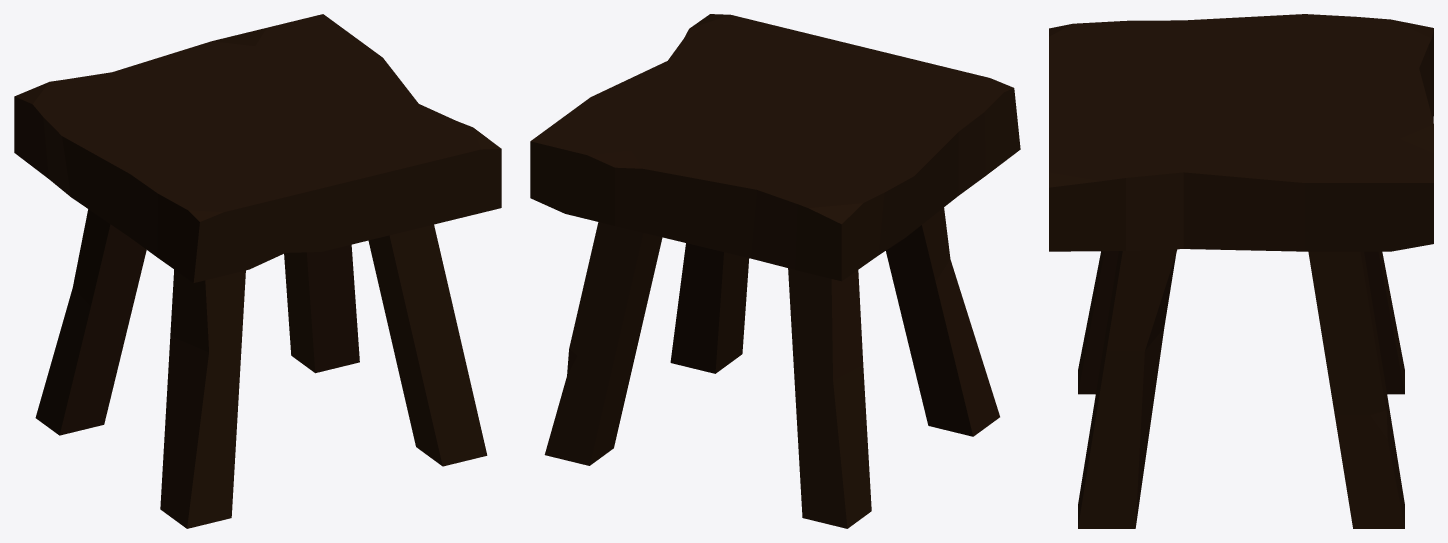
The model's file is wooden stool .fbx.
3 views of the same model, side by side, from view 1: azimuth 30°, elevation 25°; view 2: azimuth 150°, elevation 25°; view 3: azimuth 270°, elevation 25° (orthographic). The views are drawn at different scales.
Visible parts, largest first — view 1: Wooden_Stool; view 2: Wooden_Stool; view 3: Wooden_Stool.
Part boxes in pixels (box(x1,y1,x2,y2)): Wooden_Stool: box(14, 14, 501, 528); Wooden_Stool: box(530, 14, 1020, 528); Wooden_Stool: box(1049, 14, 1433, 528).
Bounding box in the file's own units: 80.76 × 77.12 × 77.7.
